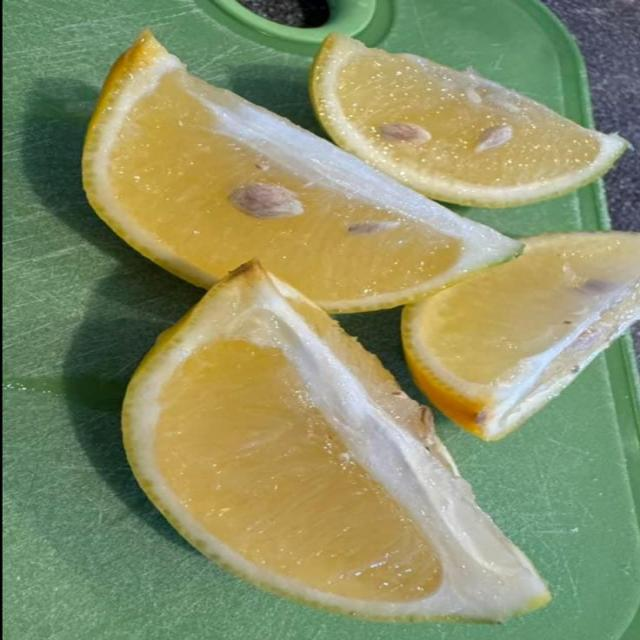lemon: (123, 264, 549, 620), (83, 32, 520, 311), (312, 35, 626, 207), (403, 232, 639, 439)
